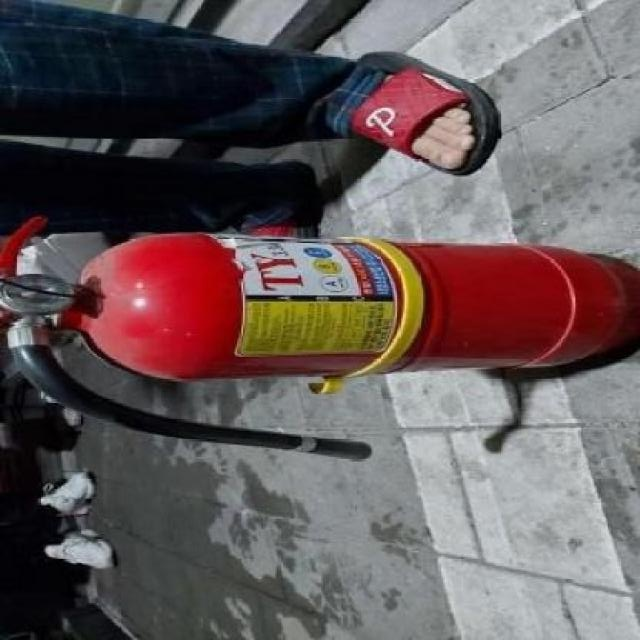fire extinguisher: (0, 217, 640, 463)
